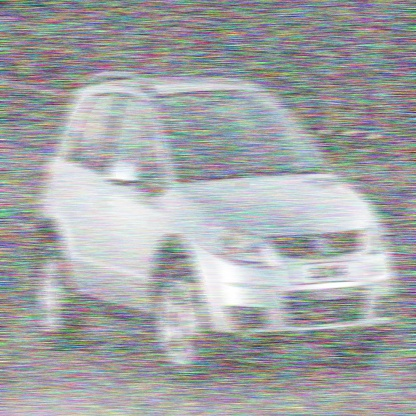Vehicle: (32, 70, 396, 387)
